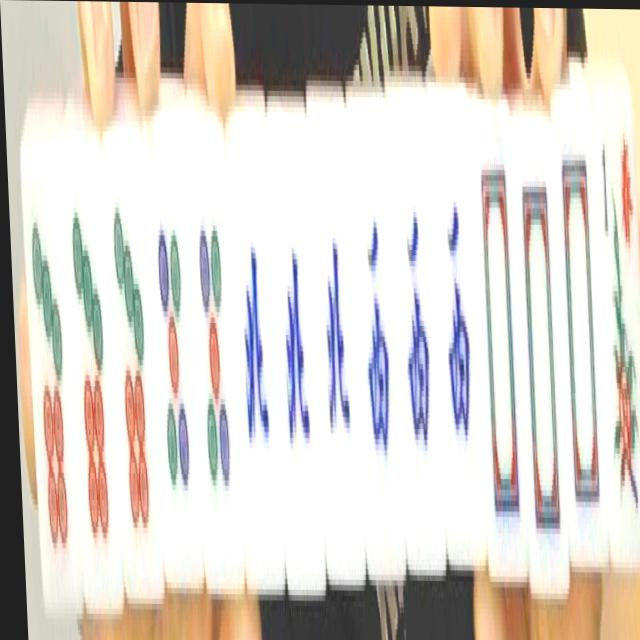bai: (474, 135, 526, 559), (555, 119, 607, 537), (516, 150, 566, 561)
ff1: (593, 111, 640, 552)
north: (313, 161, 362, 544), (232, 169, 279, 549), (274, 169, 320, 540)
t5: (189, 157, 240, 541), (150, 153, 198, 560)
t7: (65, 169, 120, 601), (24, 163, 77, 583), (107, 153, 159, 581)
west: (433, 117, 484, 520), (394, 146, 443, 534), (353, 148, 401, 533)
